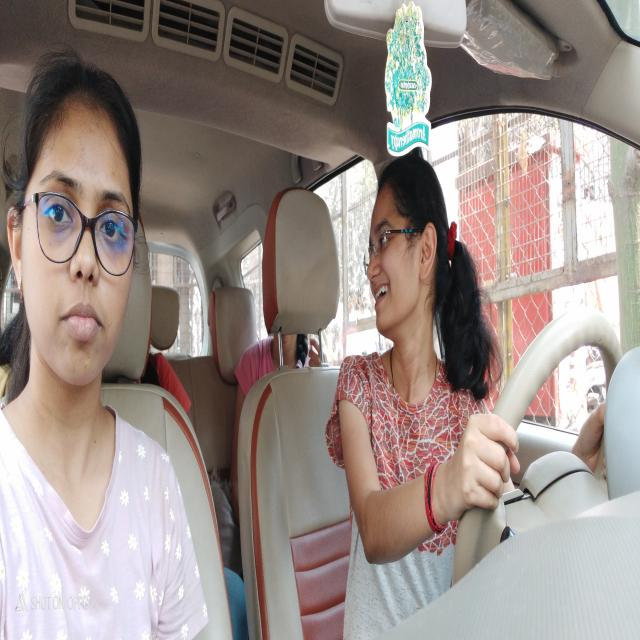LeftRight: (363, 149, 451, 341)
person: (7, 58, 143, 414)
talking: (370, 275, 392, 312)
